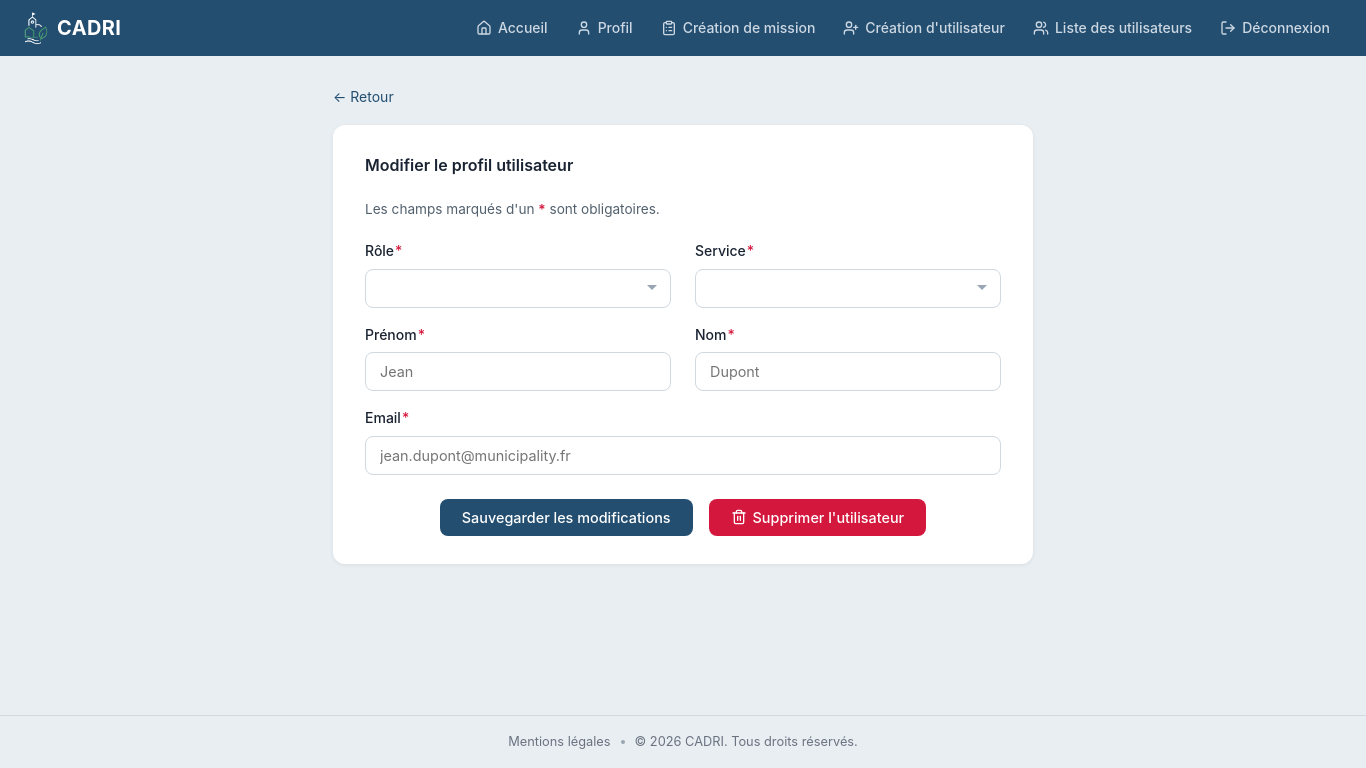
UserFormPage — suppression › cliquer sur Supprimer ouvre la pop-up de confirmation
expect the field labelled "Nom*" is shown: met, box [695,352,1001,391]
Click the button "Supprimer l'utilisateur".
click(817, 517)  # box [709,498,926,536]
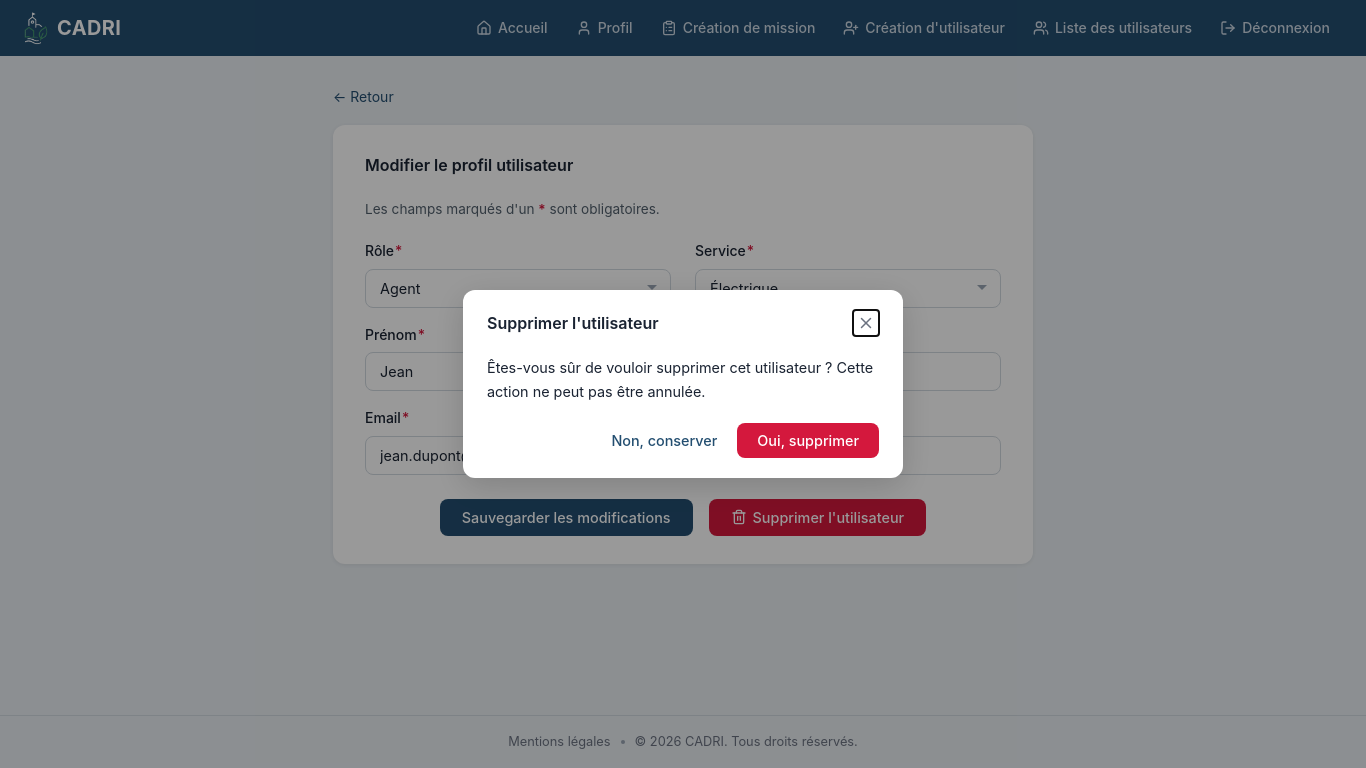
expect the dialog is shown: met
expect the text "Supprimer l'utilisateur" is shown: met, box [487,311,658,336]
